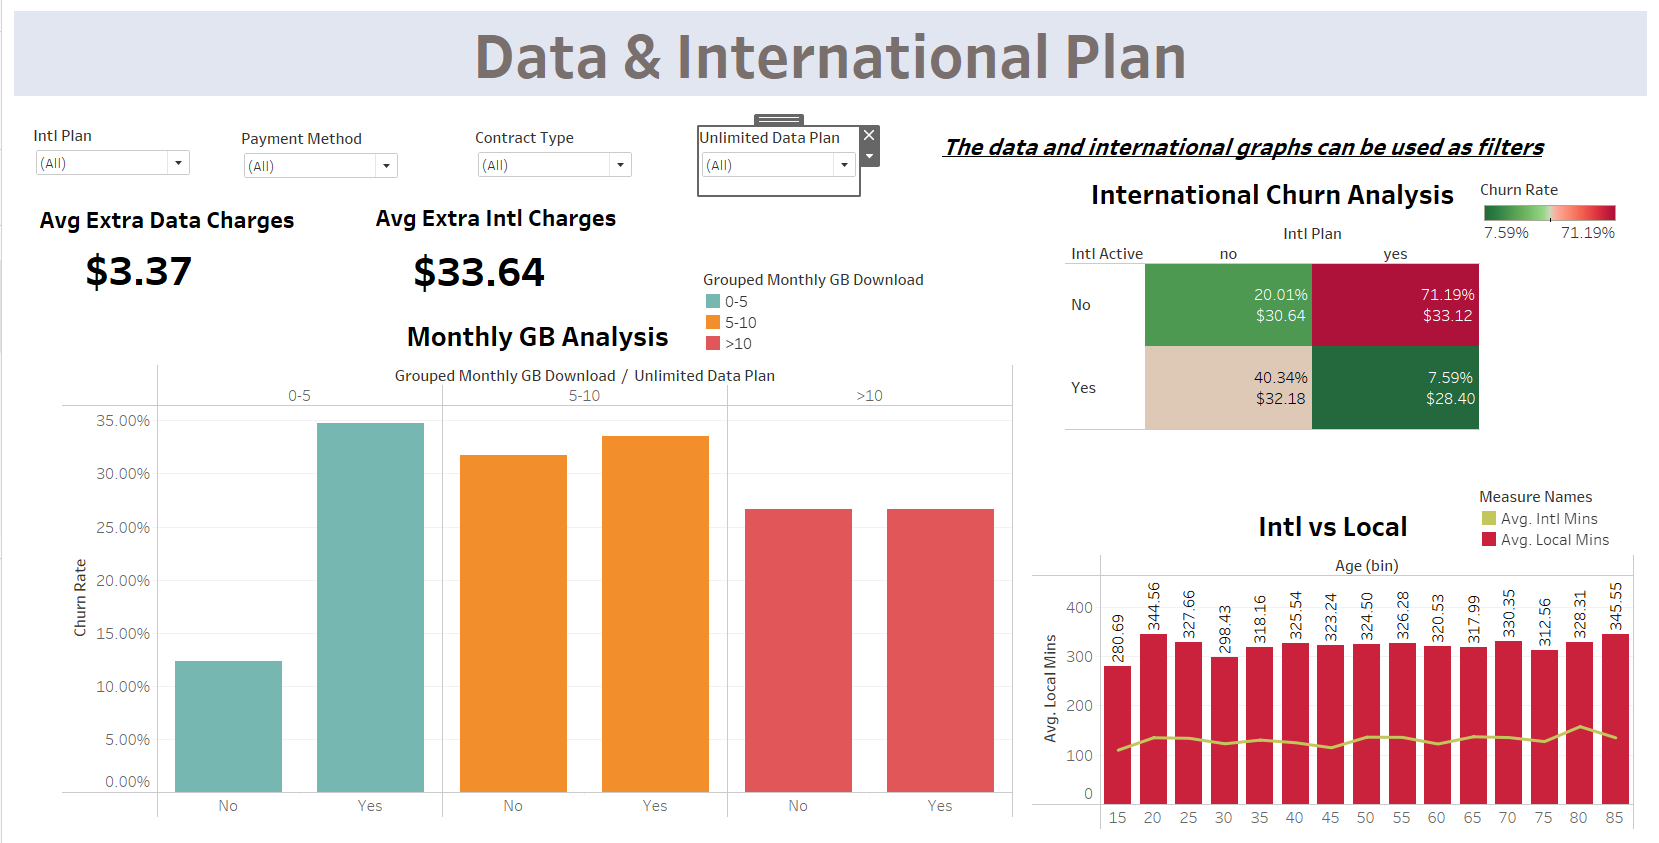

What the dashboard file says about the page in this screenshot:
{"tool":"tableau","page":{"name":"Data & International Plan","canvas":[1000,1000],"units":"permille","ordinal":1},"visuals":[{"type":"title","box":[4.8,9.4,990.3,109.3]},{"type":"worksheet","title":"Sheet 19","mark":"Automatic","box":[44.1,41.1,3,17.6]},{"type":"text","box":[565.5,135.1,380.2,75.2]},{"type":"filter","title":"Sheet 19","param":"[federated.1df3qus1ghblhc1dpikp010hw947].[none:Intl Plan:nk]","box":[18.7,148.1,96.6,64.6]},{"type":"filter","title":"Sheet 19","param":"[federated.1df3qus1ghblhc1dpikp010hw947].[none:Contract Type:nk]","box":[285.5,150.4,96.6,79.9]},{"type":"filter","title":"Sheet 19","param":"[federated.1df3qus1ghblhc1dpikp010hw947].[none:Unlimited Data Plan:nk]","box":[420.6,150.4,96.6,79.9]},{"type":"filter","title":"Sheet 19","param":"[federated.1df3qus1ghblhc1dpikp010hw947].[none:Payment Method:nk]","box":[144.2,151.6,96.6,82.3]},{"type":"worksheet","title":"International Churn Analysis","mark":"Square","rows":["Intl Active"],"cols":["Intl Plan"],"box":[641.5,202.1,328.9,386.6]},{"type":"legend","title":"International Churn Analysis","param":"[federated.1df3qus1ghblhc1dpikp010hw947].[usr:Calculation_1407656418300891140:qk","box":[892,211.5,84.5,103.4]},{"type":"text","box":[223.3,237.4,149.7,37.6]},{"type":"text","box":[20.5,239.7,158.1,37.6]},{"type":"worksheet","title":"Extra data charges","mark":"Automatic","box":[45.3,285.6,99,92.8]},{"type":"worksheet","title":"Extra Intl Charges","mark":"Automatic","box":[245.6,286.7,99,77.6]},{"type":"legend","title":"Monthly GB Analysis","param":"[federated.1df3qus1ghblhc1dpikp010hw947].[none:Calculation_1407656418359554055:n","box":[423.1,317.3,186.5,99.9]},{"type":"worksheet","title":"Monthly GB Analysis","mark":"Automatic","rows":["Calculation_1407656418300891140"],"cols":["Calculation_1407656418359554055","Unlimited Data Plan"],"box":[36.2,369,573.9,593.4]},{"type":"legend","title":"Intl vs Local","param":"[federated.1df3qus1ghblhc1dpikp010hw947].[:Measure Names]","box":[891.4,572.3,84.5,128.1]},{"type":"worksheet","title":"Intl vs Local","mark":"Bar","rows":["Local Mins","Intl Mins"],"cols":["Age (bin)"],"box":[621.6,592.2,363.3,384.2]}]}

Visuals, with their boxes on the dashboard's canvas, which has no fixed pixel size, in thousandths of its width and height (x1, y1, x2, y2). These are canvas units, not pixel positions in the 1659x843 screenshot, which may show the page scaled, cropped or inside an application window:
title: (left=5, top=9, right=995, bottom=119)
"Sheet 19" worksheet: (left=44, top=41, right=47, bottom=59)
text: (left=566, top=135, right=946, bottom=210)
"Sheet 19" filter: (left=19, top=148, right=115, bottom=213)
"Sheet 19" filter: (left=286, top=150, right=382, bottom=230)
"Sheet 19" filter: (left=421, top=150, right=517, bottom=230)
"Sheet 19" filter: (left=144, top=152, right=241, bottom=234)
"International Churn Analysis" worksheet (Square marks): (left=642, top=202, right=970, bottom=589)
"International Churn Analysis" legend: (left=892, top=212, right=976, bottom=315)
text: (left=223, top=237, right=373, bottom=275)
text: (left=20, top=240, right=179, bottom=277)
"Extra data charges" worksheet: (left=45, top=286, right=144, bottom=378)
"Extra Intl Charges" worksheet: (left=246, top=287, right=345, bottom=364)
"Monthly GB Analysis" legend: (left=423, top=317, right=610, bottom=417)
"Monthly GB Analysis" worksheet: (left=36, top=369, right=610, bottom=962)
"Intl vs Local" legend: (left=891, top=572, right=976, bottom=700)
"Intl vs Local" worksheet (Bar marks): (left=622, top=592, right=985, bottom=976)
